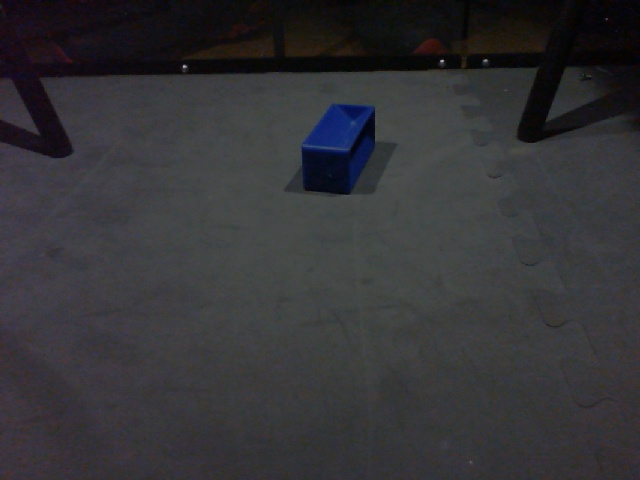BlueSample: (297, 98, 382, 200)
